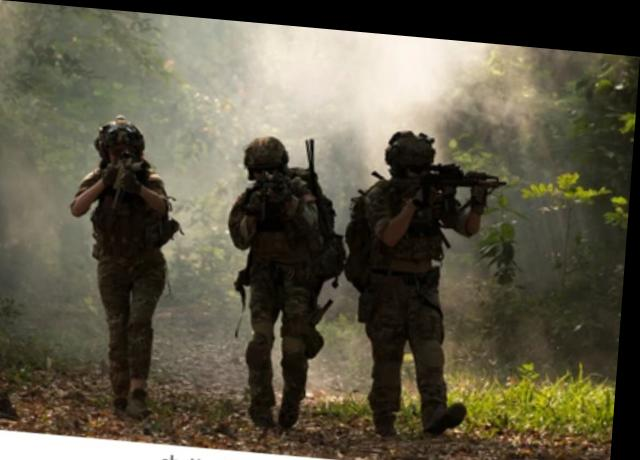other: (210, 110, 373, 429), (57, 97, 202, 417), (355, 113, 498, 432)
